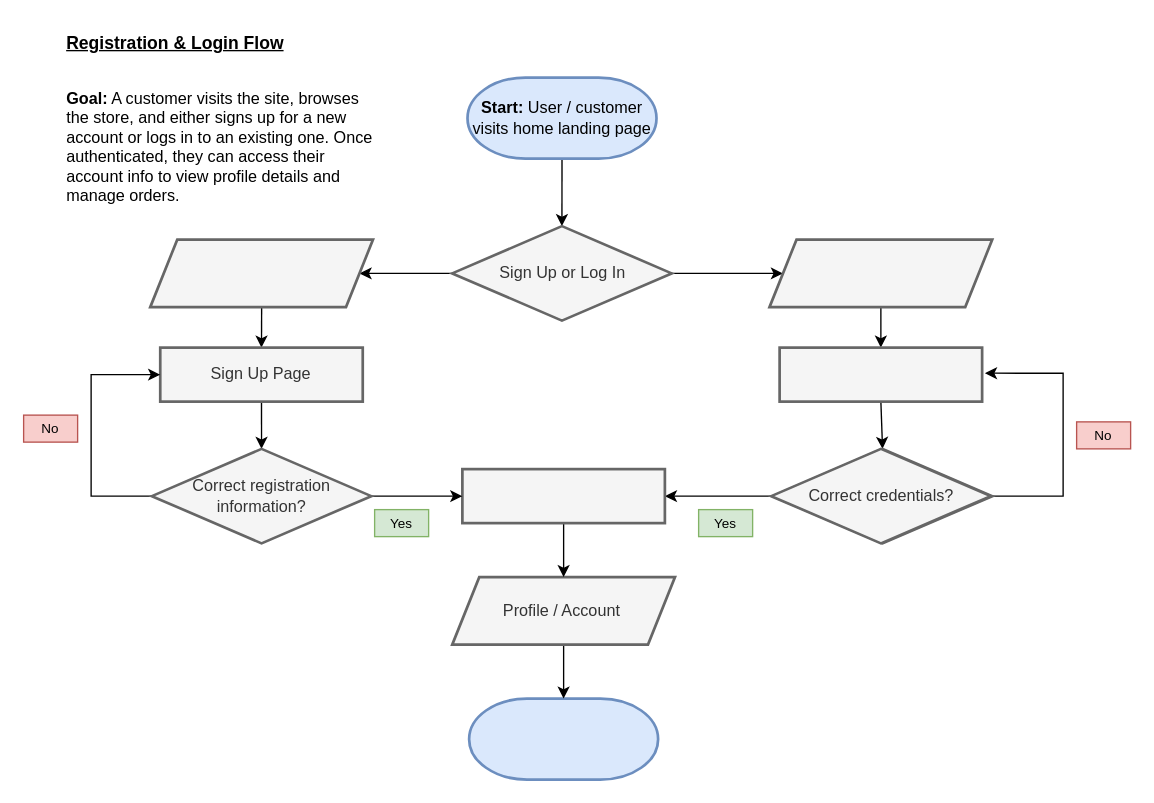
Some shapes in this 1154 by 803 pixel diagram are drawn without their labels. Each missing label, with the centre of its shape:
"Account Authorisation (Log In)" goes at (x=880, y=273).
"Create an account (Sign Up)" goes at (x=261, y=273).
"End: User / customer successfully accesses profile" goes at (x=563, y=738).
"Home Landing Page" goes at (x=563, y=495).
"Log In Page" goes at (x=880, y=374).
